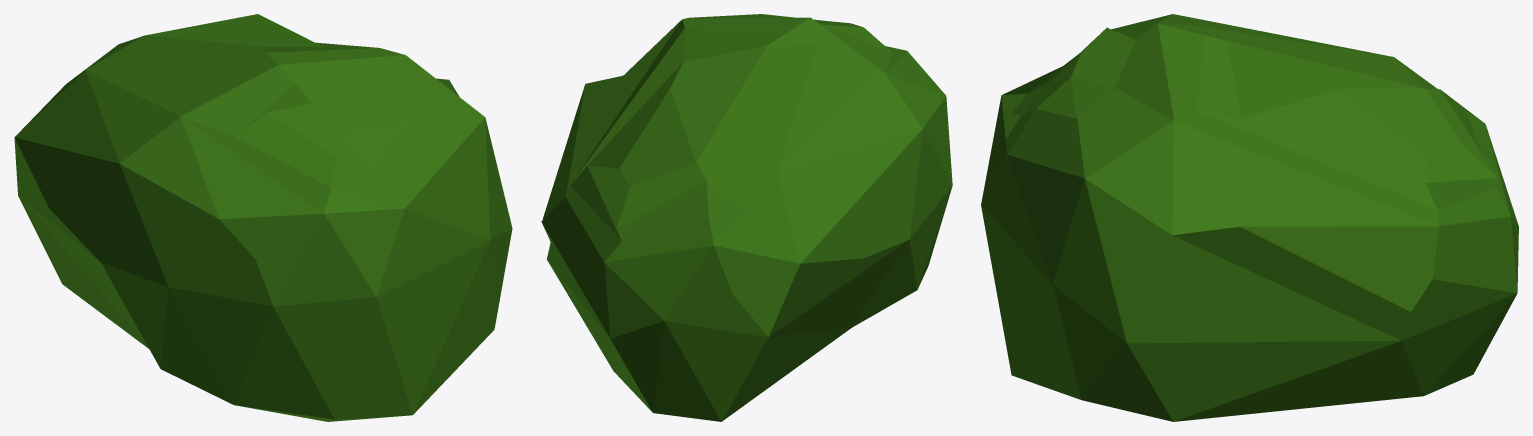
Rendered from bush 2.fbx.
3 views of the same model, side by side, from view 1: azimuth 30°, elevation 25°; view 2: azimuth 150°, elevation 25°; view 3: azimuth 270°, elevation 25° (orthographic). The views are drawn at different scales.
Visible parts, largest first — view 1: Icosphere; view 2: Icosphere; view 3: Icosphere.
Part boxes in pixels (box(x1,y1,x2,y2)): Icosphere: box(14, 14, 512, 421); Icosphere: box(541, 14, 952, 421); Icosphere: box(981, 14, 1518, 421).
Size of the model in its own units: 245 by 217 by 308.
